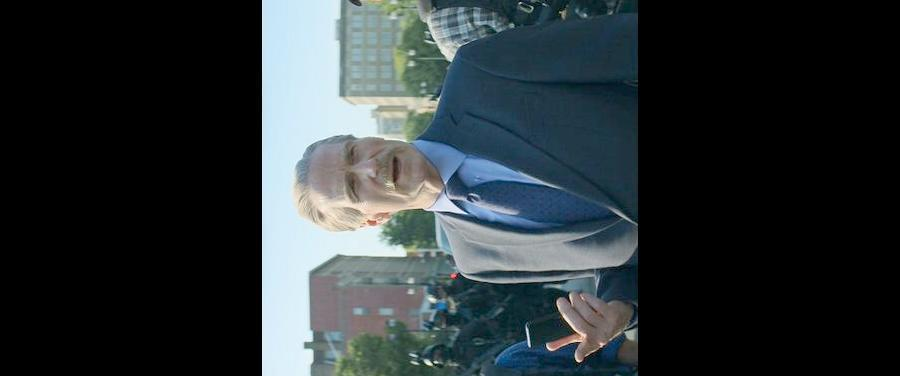gun: (517, 0, 636, 85)
